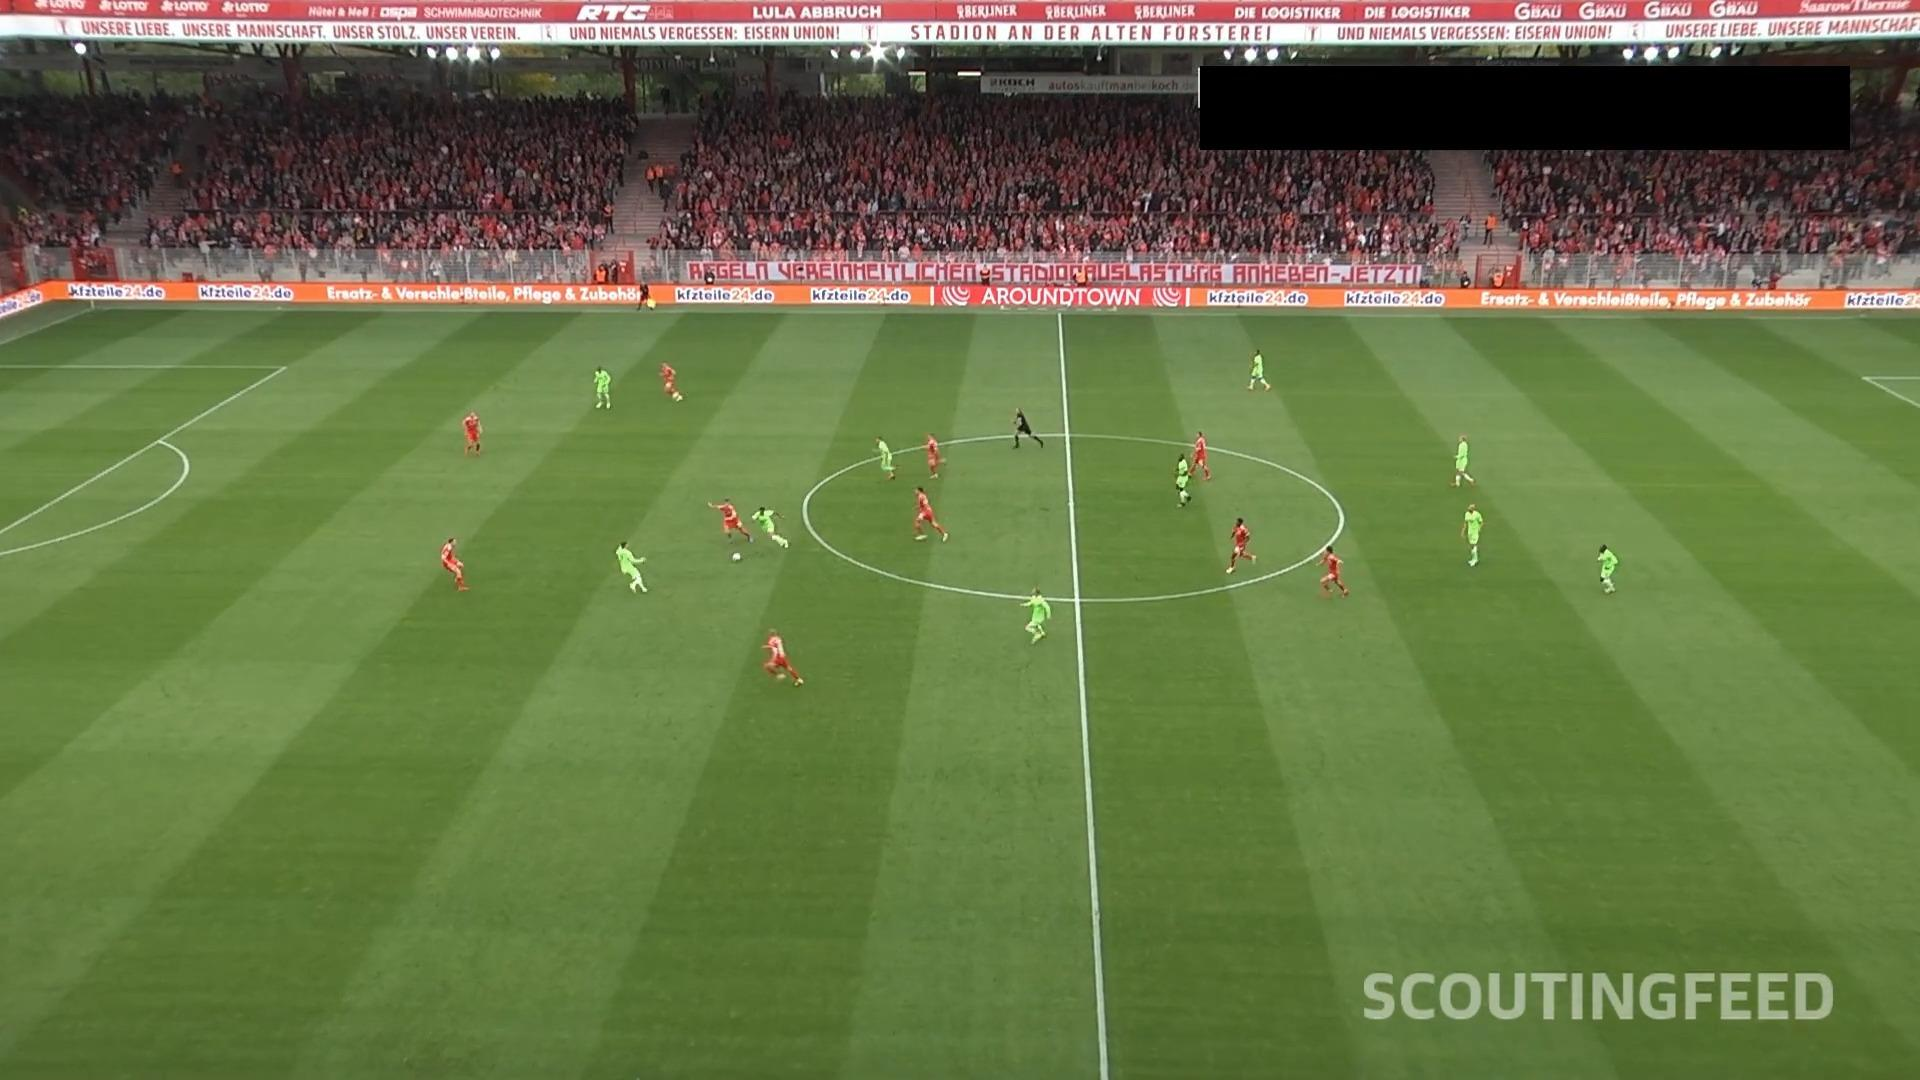ball: (731, 551, 742, 563)
